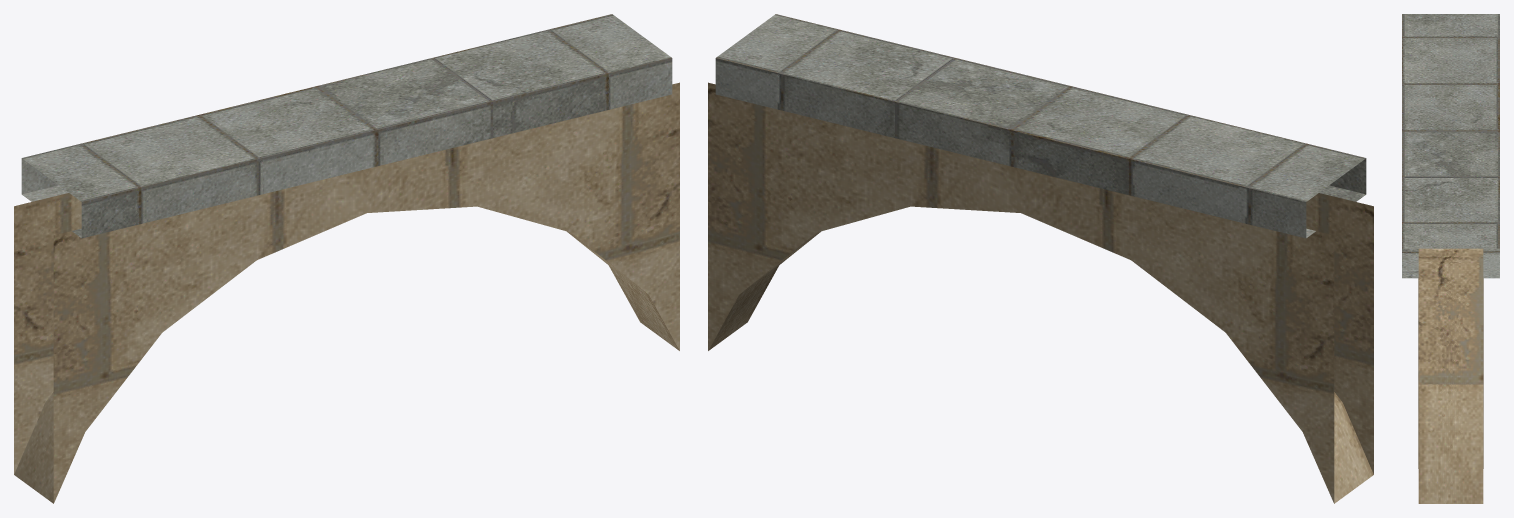
File: arch_buttress.fbx
The picture shows the model from 3 angles, left to right: view 1: azimuth 30°, elevation 25°; view 2: azimuth 150°, elevation 25°; view 3: azimuth 270°, elevation 25°; orthographic projection. The views are drawn at different scales.
Visible parts, largest first — view 1: arch_buttress; view 2: arch_buttress; view 3: arch_buttress.
Boxes of the visible parts, x1=… form: arch_buttress: x1=14, y1=14, x2=679, y2=503; arch_buttress: x1=708, y1=14, x2=1373, y2=503; arch_buttress: x1=1402, y1=14, x2=1499, y2=503.
Size of the model in its own units: 180 by 83.93 by 30.
